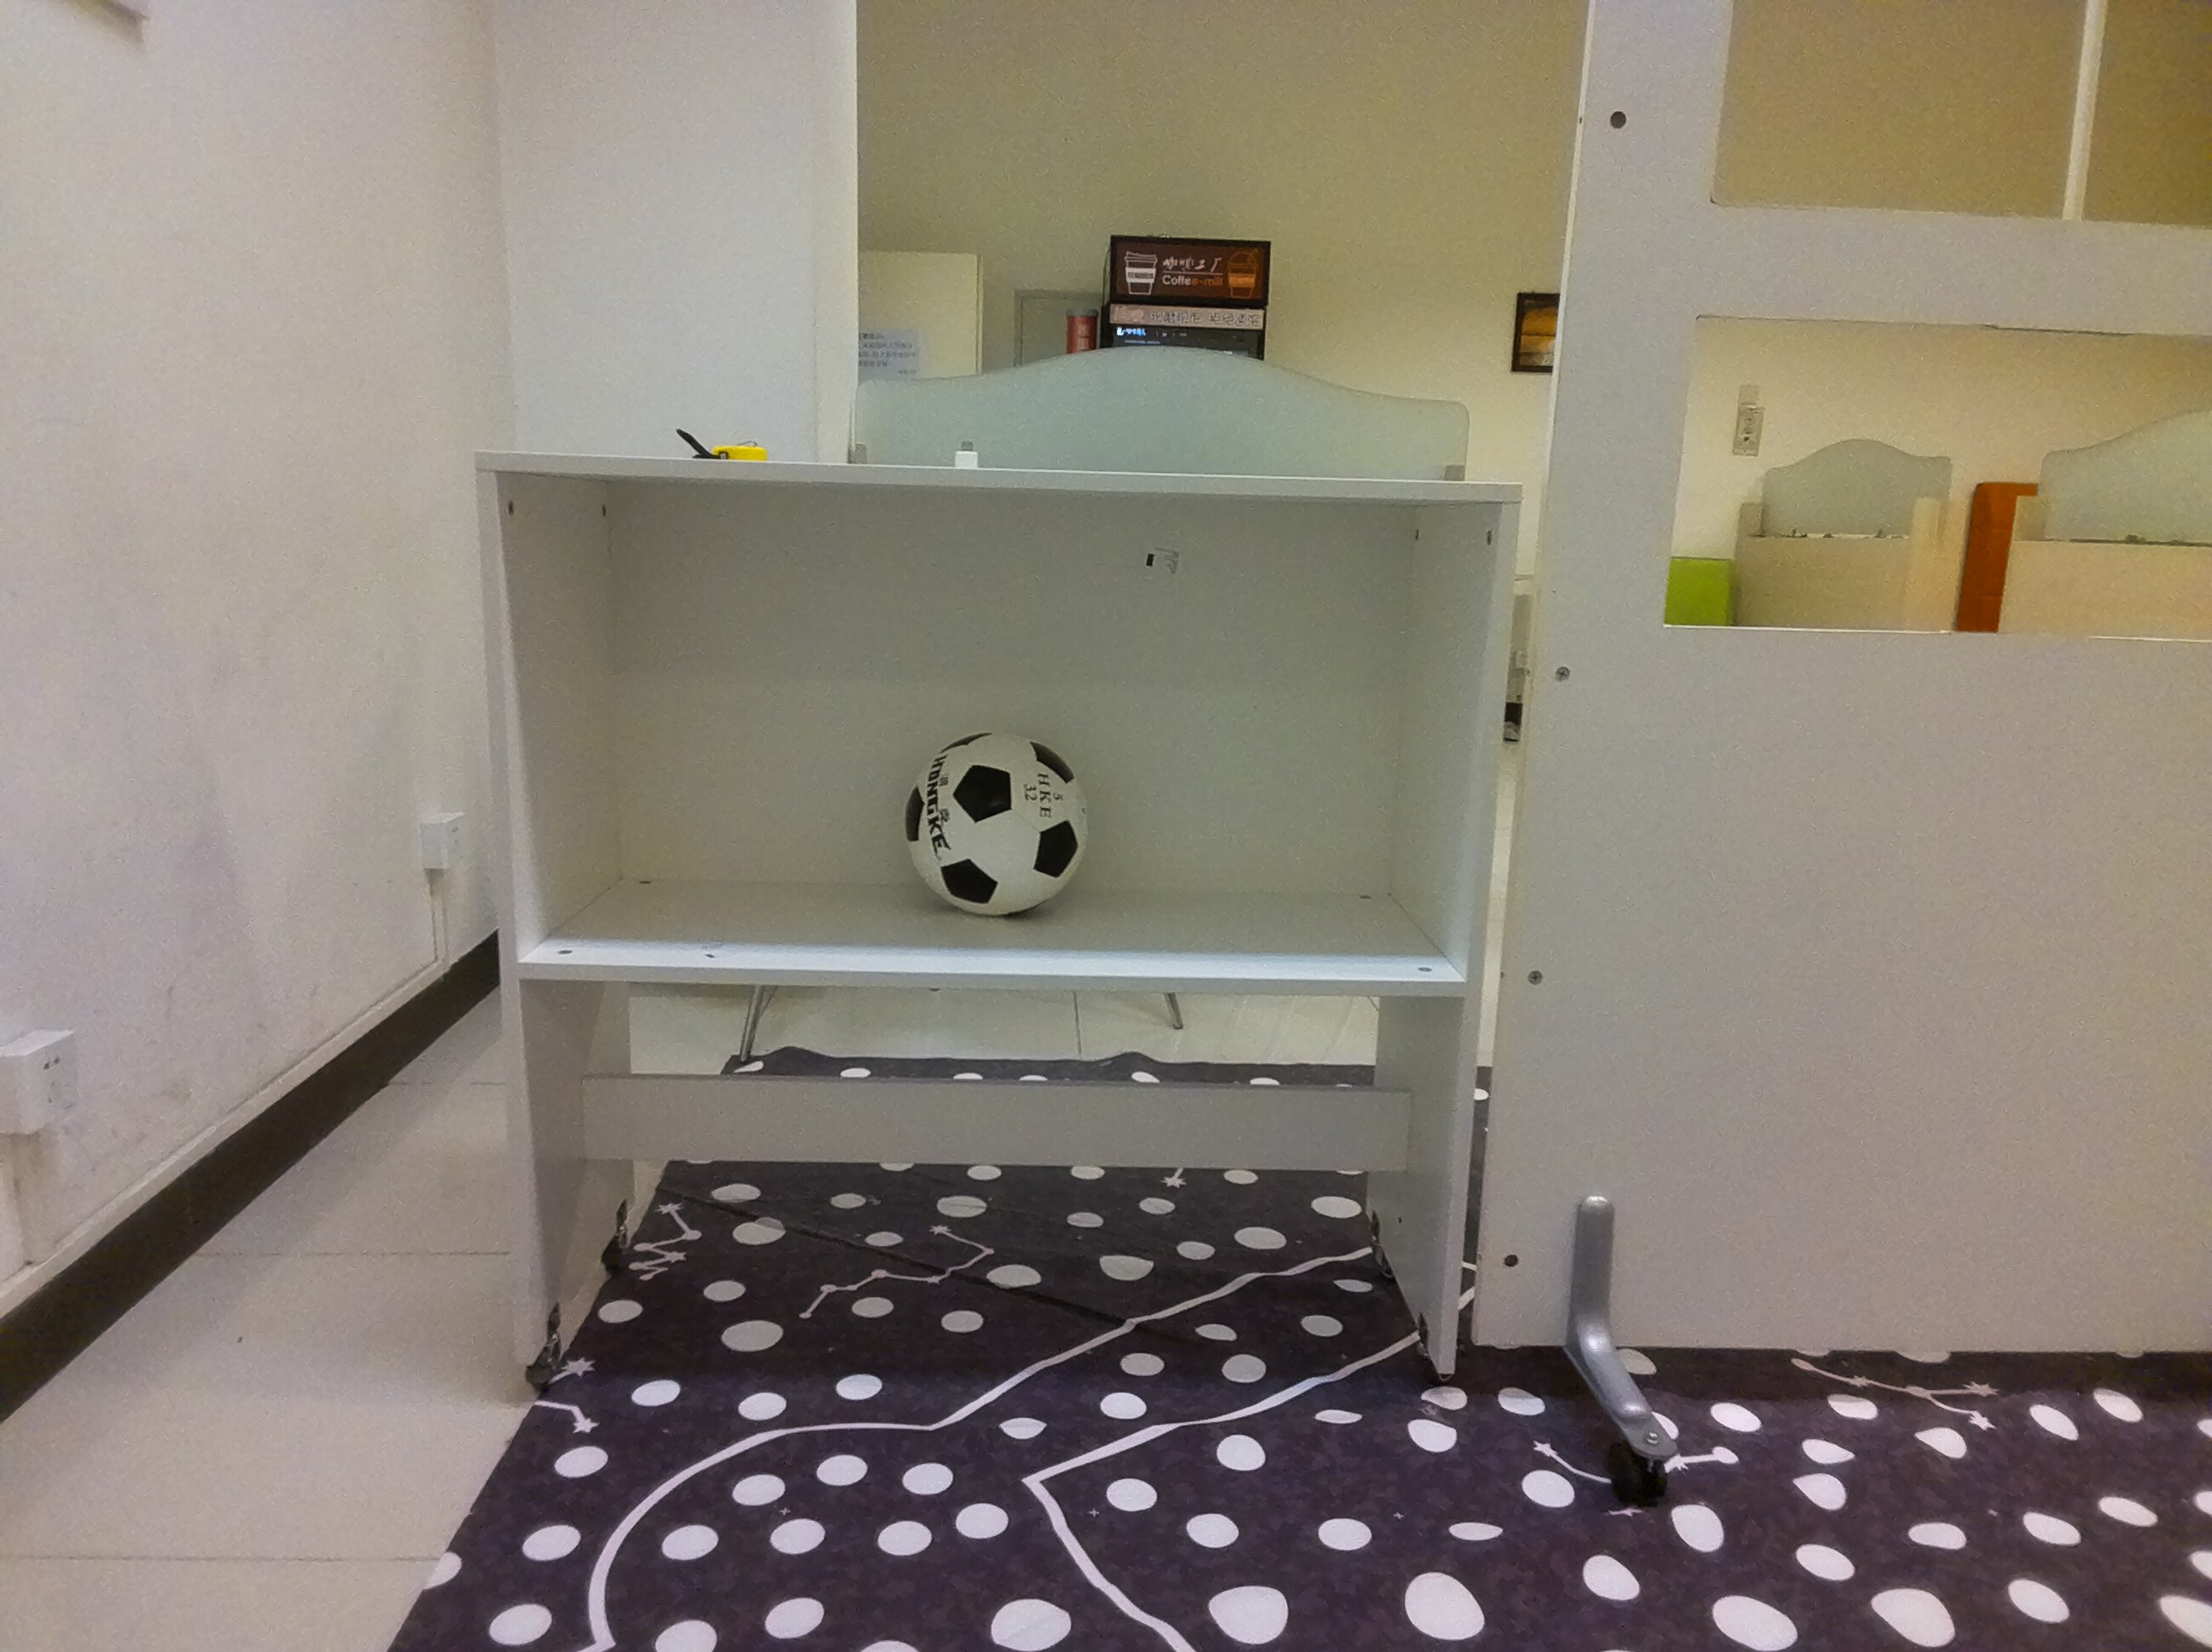football: (892, 717, 1100, 923)
